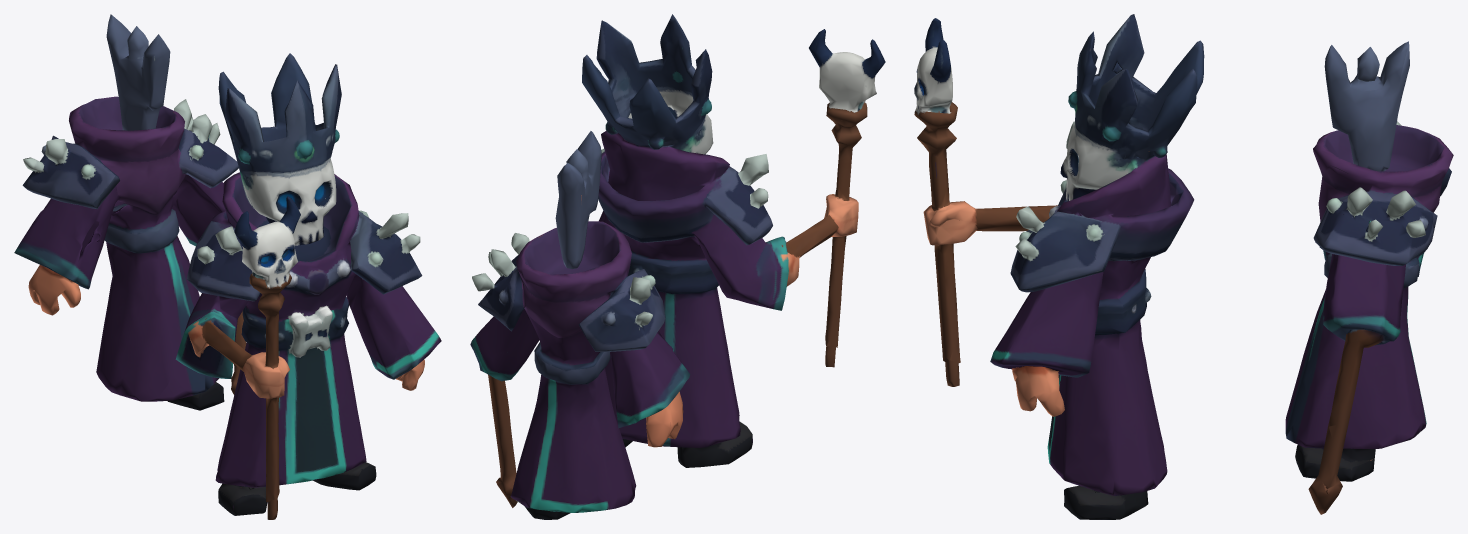
The model's file is necrolord-web.glb.
3 views of the same model, side by side, from view 1: azimuth 30°, elevation 25°; view 2: azimuth 150°, elevation 25°; view 3: azimuth 270°, elevation 25° (orthographic). The views are drawn at different scales.
Size of the model in its own units: 0.56 by 0.9262 by 0.9926.
Materials: 1 (1 with a texture image).
